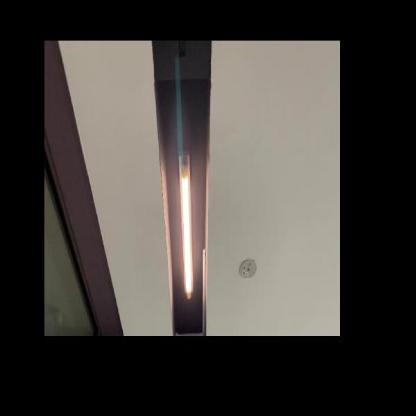light_on: (174, 138, 197, 301)
